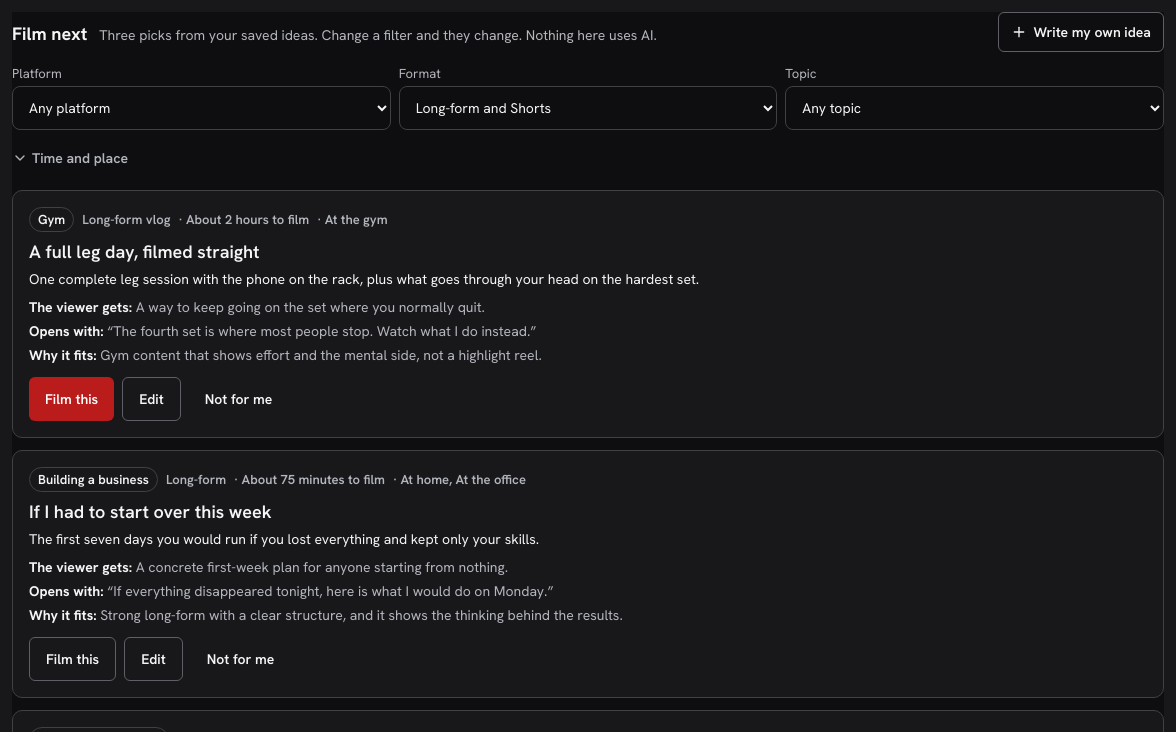
Test case: Film next: choosing, editing, dismissing › Not for me asks for an optional reason, and Keep it dismisses nothing
The image size is (1176, 732).
Later steps or results of the test are not shown.
Click the button "Not for me" below "About 2 hours to film": click(239, 399) [189,377,288,421]
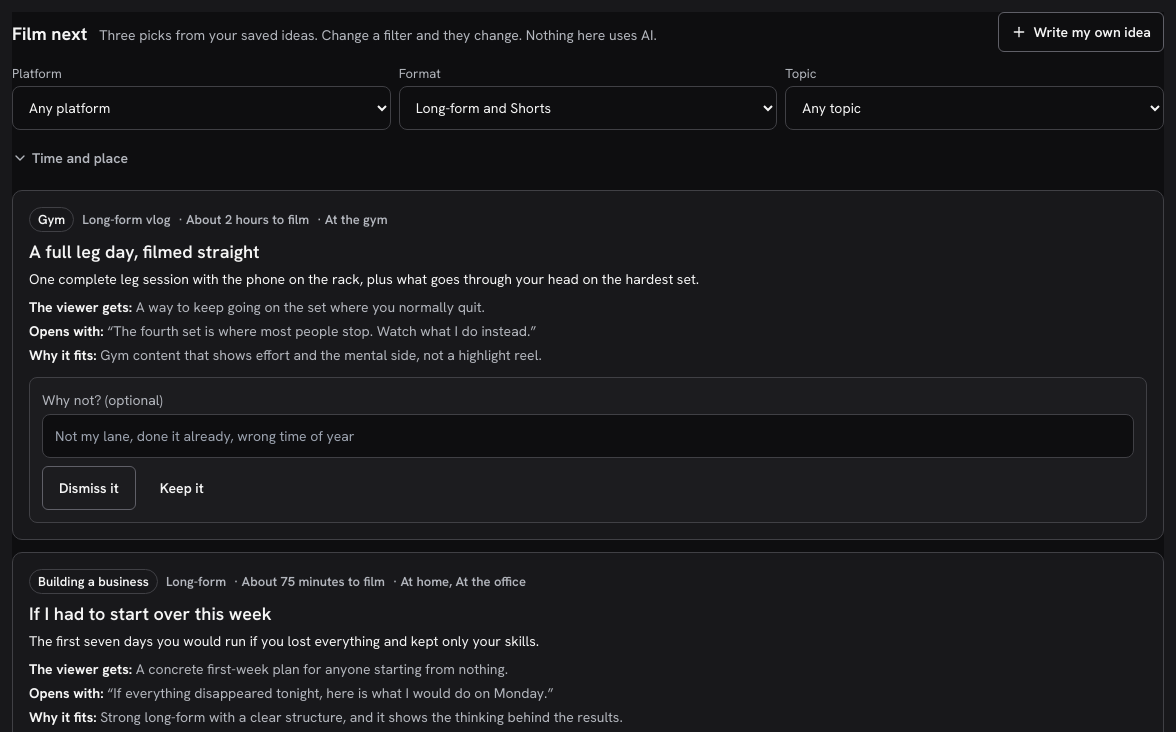
Check: the field labelled "Why not? (optional)" is shown, box [42,414,1134,458]
